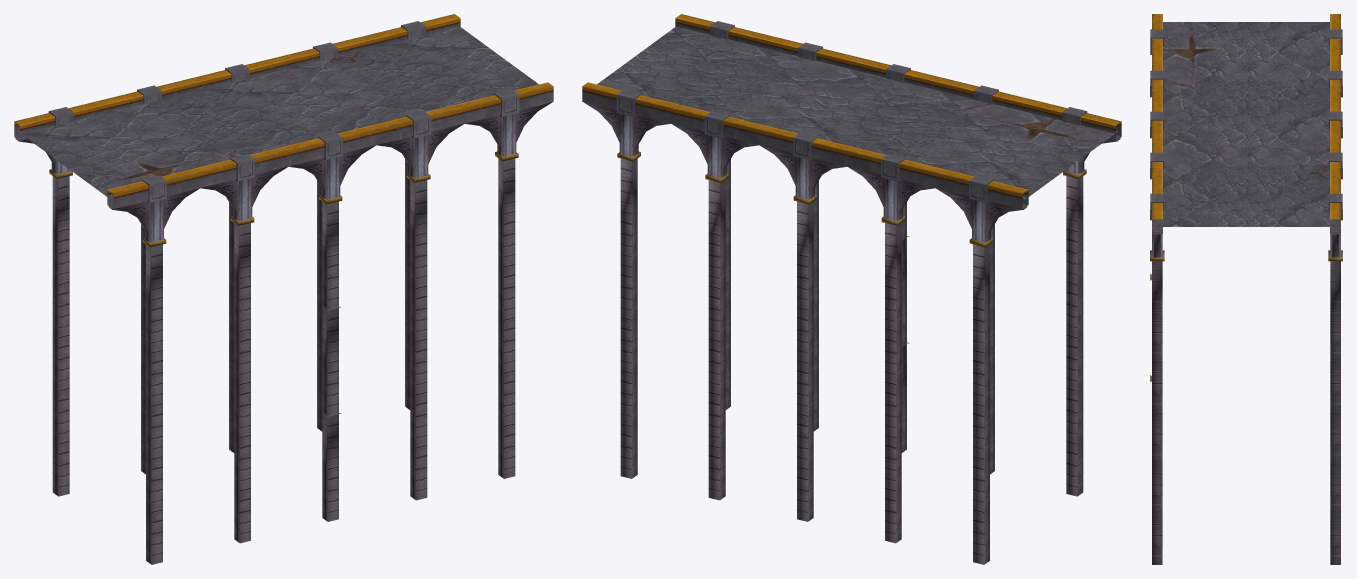
Rendered from BOSS_Bridge_01.FBX.
The picture shows the model from 3 angles, left to right: view 1: azimuth 30°, elevation 25°; view 2: azimuth 150°, elevation 25°; view 3: azimuth 270°, elevation 25°; orthographic projection. The views are drawn at different scales.
Parts seen in each view (by area): view 1: BOSS_Bridge_01_02, BOSS_Bridge_01_01; view 2: BOSS_Bridge_01_02, BOSS_Bridge_01_01; view 3: BOSS_Bridge_01_01, BOSS_Bridge_01_02.
Part boxes in pixels (x1,y1,x2,y2): BOSS_Bridge_01_02: (14, 14, 553, 564); BOSS_Bridge_01_01: (18, 26, 538, 199); BOSS_Bridge_01_02: (582, 14, 1121, 564); BOSS_Bridge_01_01: (597, 26, 1117, 199); BOSS_Bridge_01_01: (1157, 22, 1335, 226); BOSS_Bridge_01_02: (1150, 14, 1342, 564).
Bounding box in the file's own units: 19.53 × 16.16 × 7.75.
